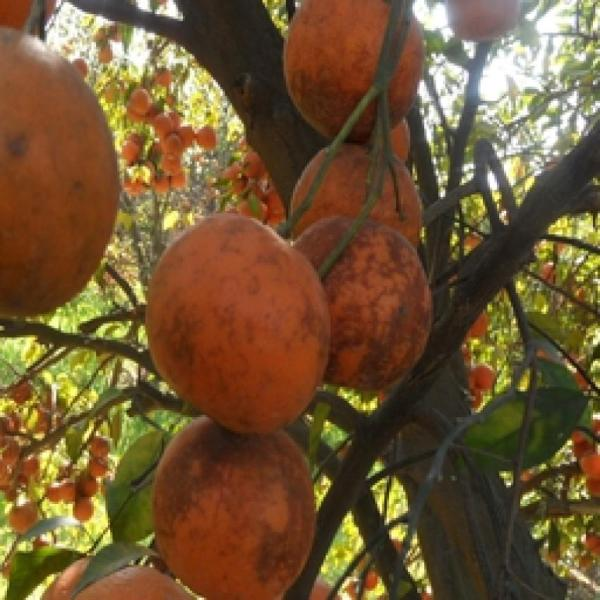Canker: (132, 201, 338, 436), (0, 24, 127, 311), (281, 207, 446, 413), (148, 409, 318, 598), (278, 0, 426, 147), (280, 140, 438, 258)
Sana: (35, 552, 196, 600)
